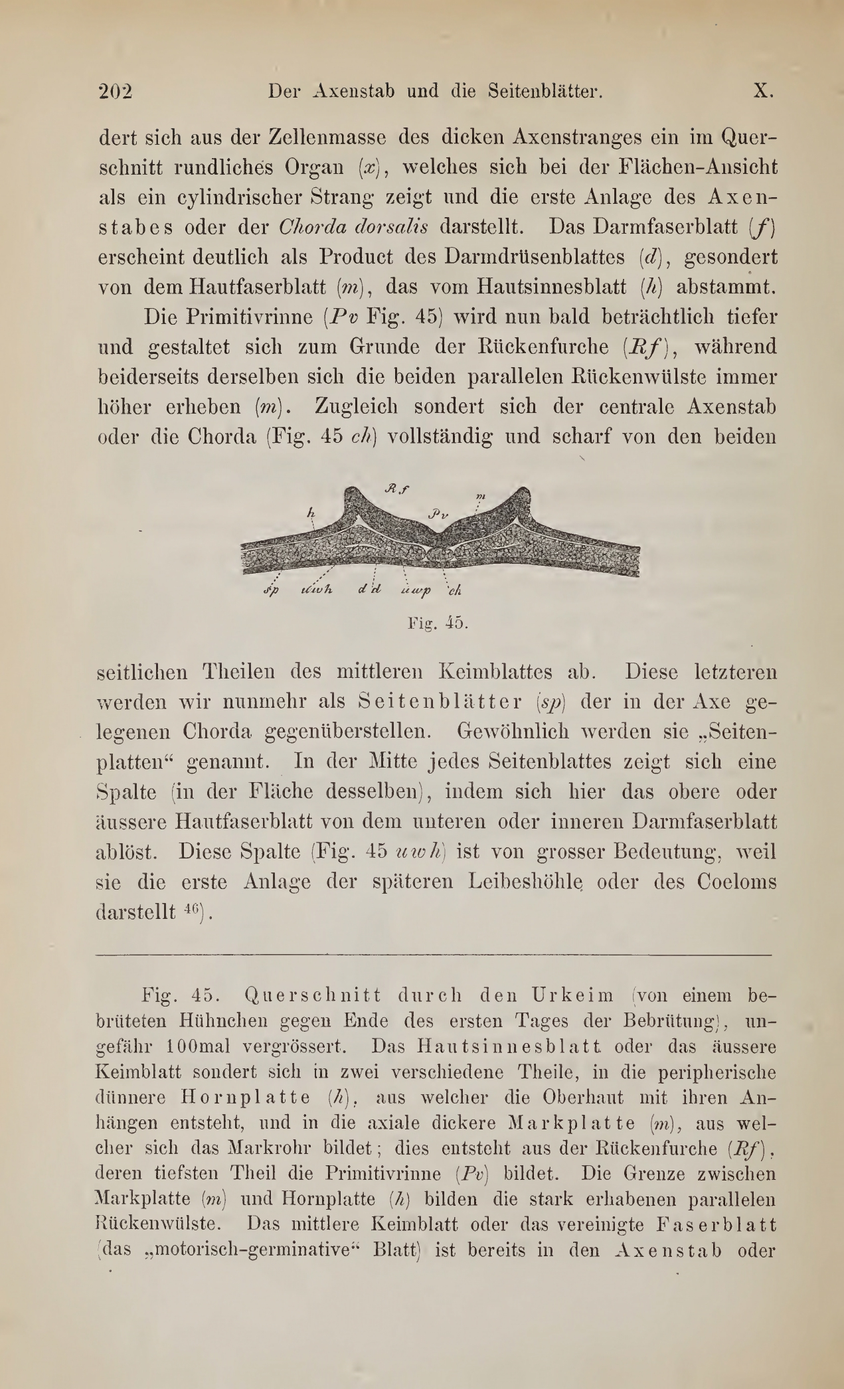GraphicZone_Description: (395, 605, 479, 640)
GraphicZone_Illustration: (225, 475, 653, 604)
MainZone: (80, 110, 793, 473), (76, 644, 796, 937)
MarginTextZone note: (80, 969, 801, 1289)
NumberingZone chapter: (740, 73, 783, 107)
NumberingZone_page: (87, 75, 146, 112)
RunningTitleZone: (262, 75, 613, 109)
